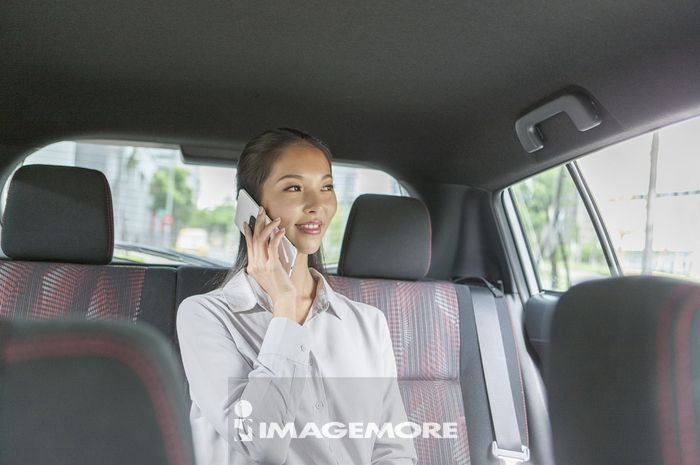phone: (236, 187, 299, 281)
talk: (235, 167, 336, 311)
